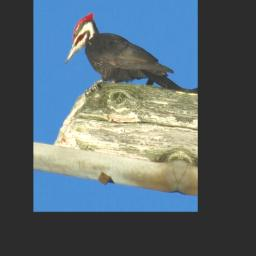Woodpecker: (63, 5, 192, 106)
